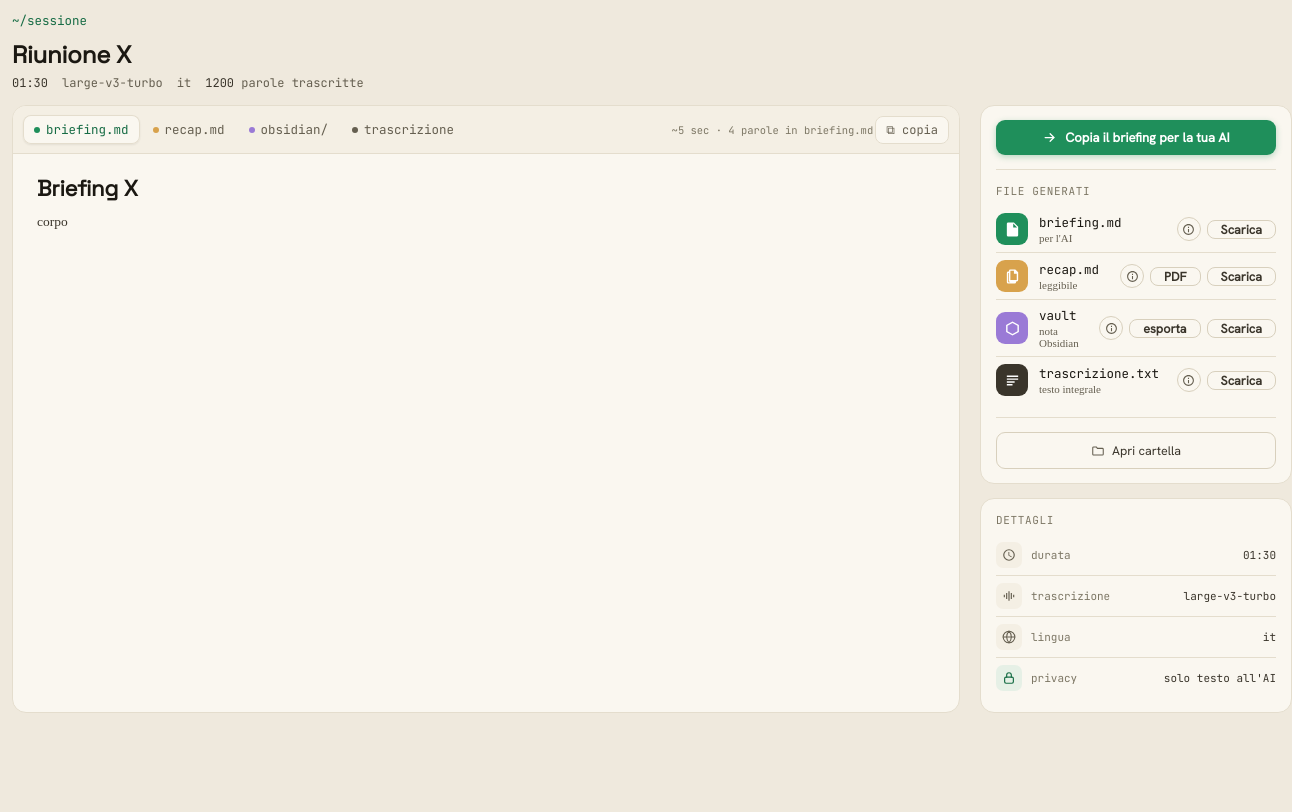
Test case: ScreenArtifacts › cliccare recap.md mostra il contenuto del recap
Click the button "recap.md": (188, 130) [142,115,236,144]
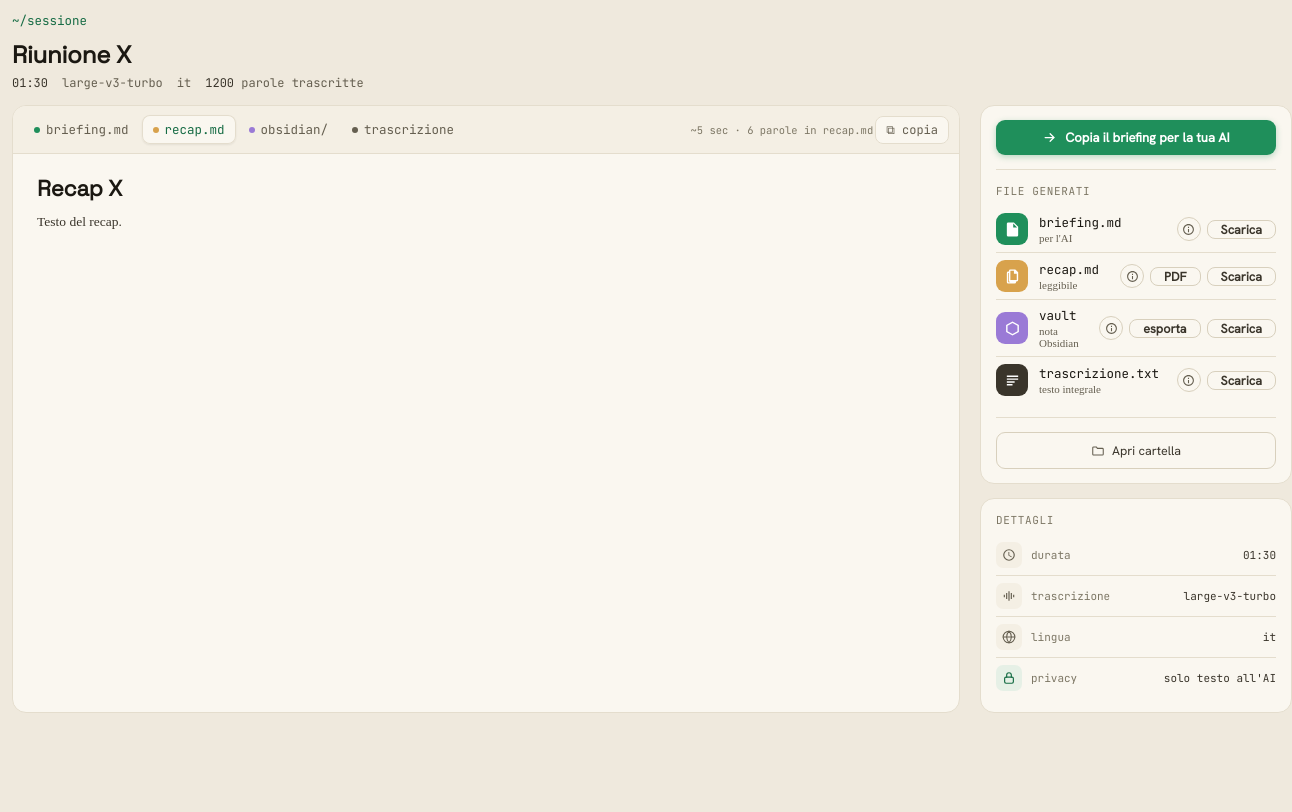
Check: the heading "Recap X" is shown, box [37,174,122,202]
